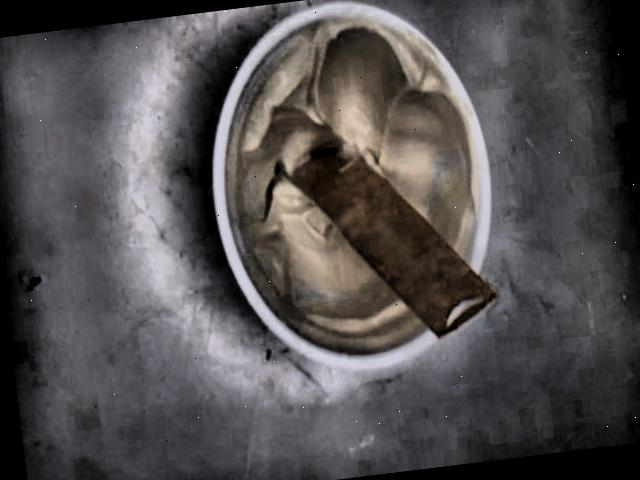Almennt: (212, 2, 499, 371)
